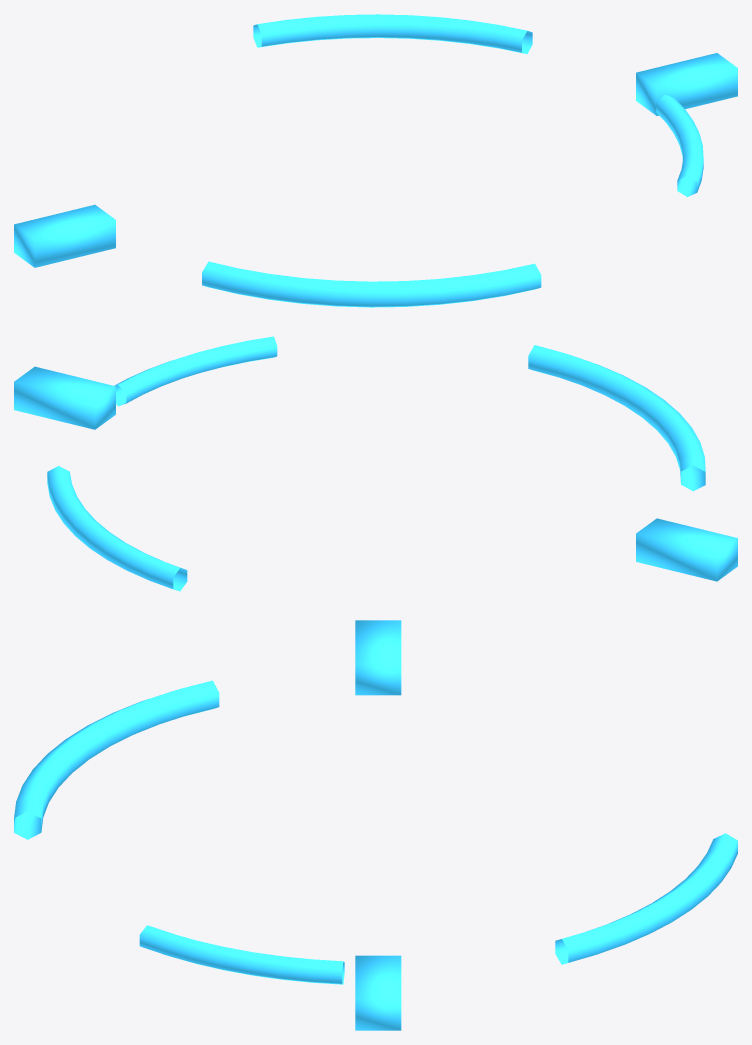
Rendered from jarvis_tool_orbit.glb.
3 views of the same model, one above another, from view 1: azimuth 30°, elevation 25°; view 2: azimuth 150°, elevation 25°; view 3: azimuth 270°, elevation 25° (orthographic). The views are drawn at different scales.
Visible parts, largest first — view 1: JCC_ToolOrbitBracket; view 2: JCC_ToolOrbitBracket; view 3: JCC_ToolOrbitBracket.
Boxes of the visible parts, box(x1,y1,x2,y2) form: JCC_ToolOrbitBracket: box(14, 14, 737, 307); JCC_ToolOrbitBracket: box(14, 336, 737, 591); JCC_ToolOrbitBracket: box(14, 620, 737, 1030).
Bounding box in the file's own units: 3.12 × 0.12 × 2.52.
